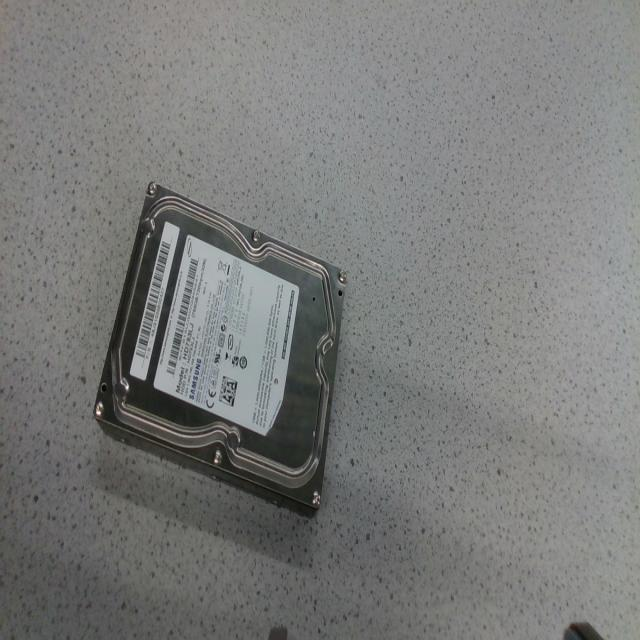label: (154, 236, 298, 435), (130, 223, 178, 380)
lid: (94, 181, 346, 503)
screw: (94, 401, 104, 418), (146, 181, 156, 196), (214, 449, 222, 465), (338, 269, 346, 284), (312, 491, 320, 505), (252, 229, 260, 241)
